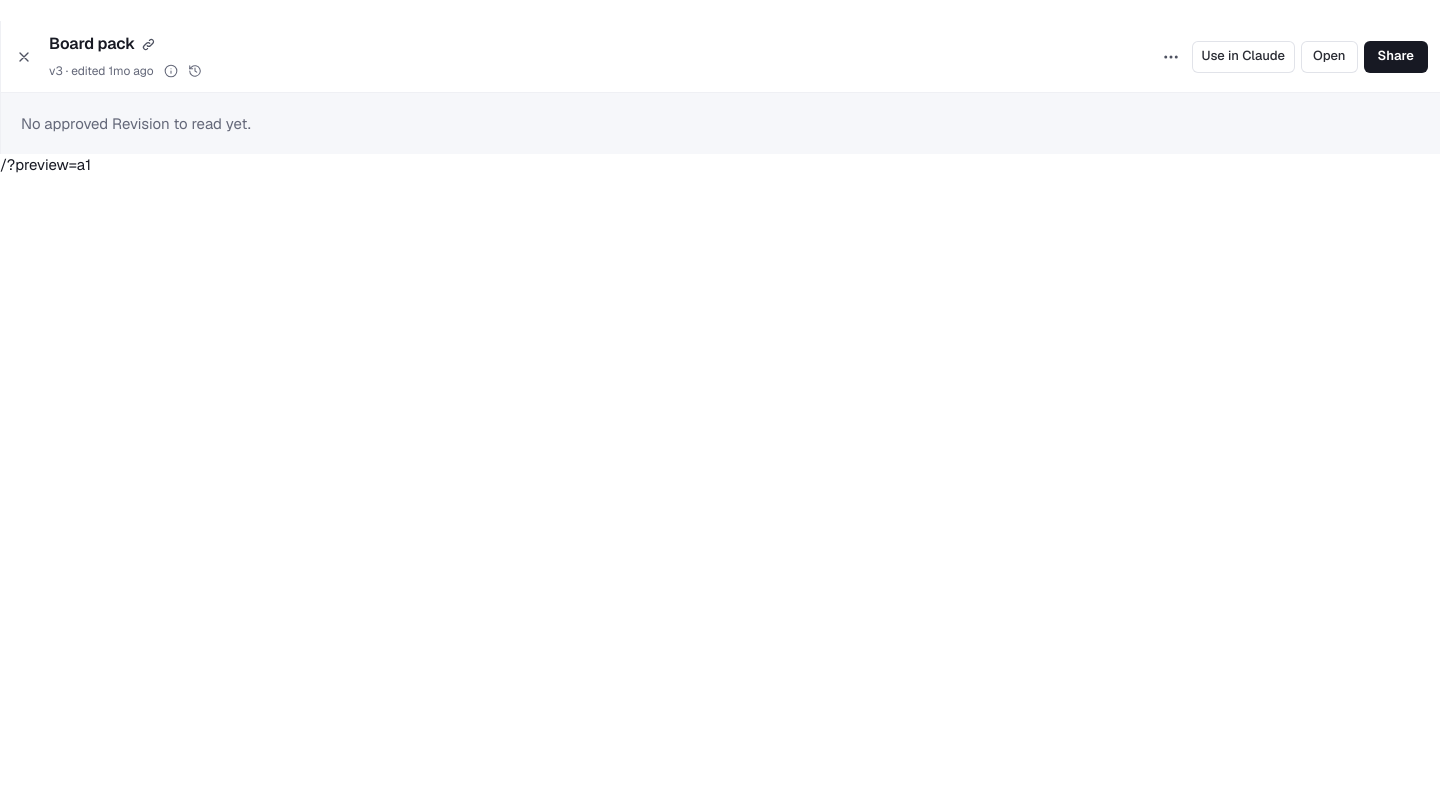
Scenario: PreviewPane header › opens Share from its own button
Click the button "Share".
click(1396, 56)  # box [1364, 40, 1428, 72]
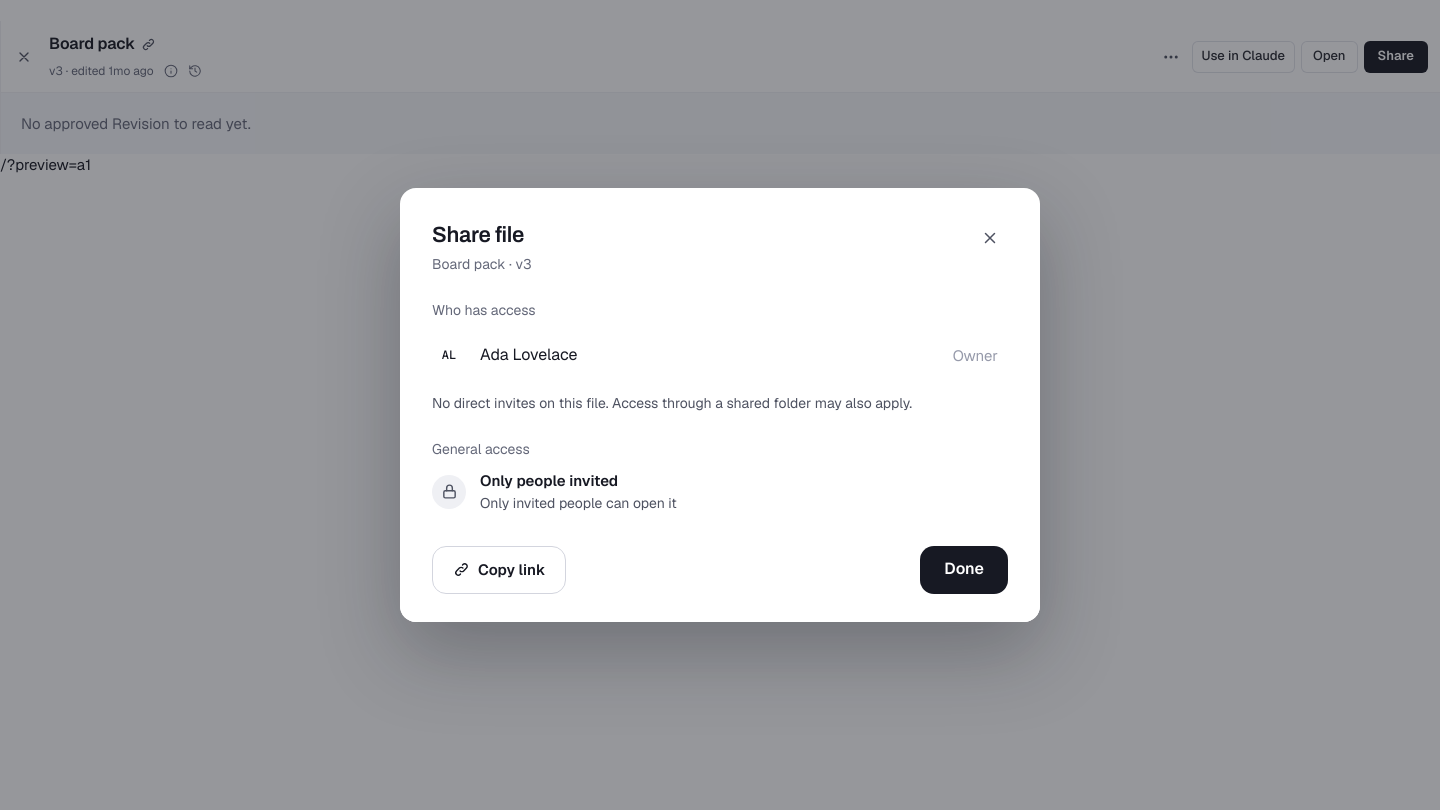
expect the dialog is shown: met, box [400, 188, 1040, 622]
